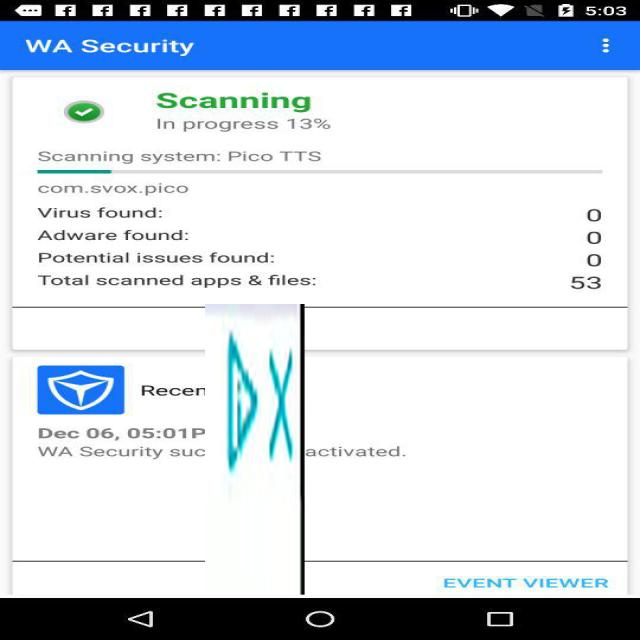sneaking: (205, 304, 305, 595)
